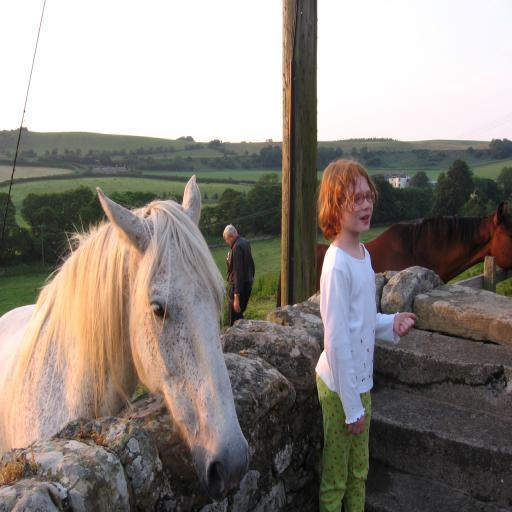horse: (0, 174, 252, 502), (278, 200, 512, 308)
